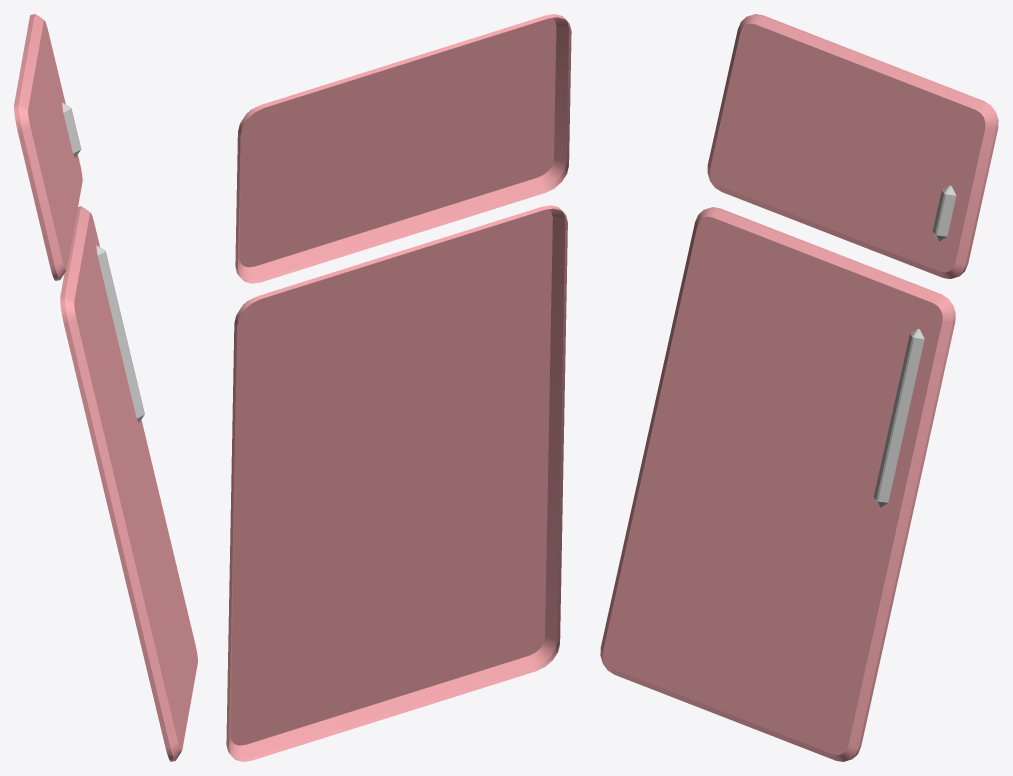
The model's file is portes frigo.fbx.
3 renders of one model, left to right at view 1: azimuth 30°, elevation 25°; view 2: azimuth 150°, elevation 25°; view 3: azimuth 270°, elevation 25°, orthographic. The views are drawn at different scales.
Visible parts, largest first — view 1: fridge.010, fridge.009, fridge.017, fridge.016; view 2: fridge.010, fridge.009; view 3: fridge.010, fridge.009, fridge.017, fridge.016.
Boxes of the visible parts, box(x1,y1,x2,y2) form: fridge.010: box(60, 206, 197, 761); fridge.009: box(14, 14, 82, 280); fridge.017: box(96, 245, 144, 422); fridge.016: box(62, 102, 81, 157); fridge.010: box(226, 205, 567, 761); fridge.009: box(235, 14, 571, 283); fridge.010: box(600, 207, 955, 761); fridge.009: box(707, 14, 998, 278); fridge.017: box(873, 328, 924, 507); fridge.016: box(932, 185, 956, 241).
Size of the model in its own units: 75.16 by 200 by 112.
